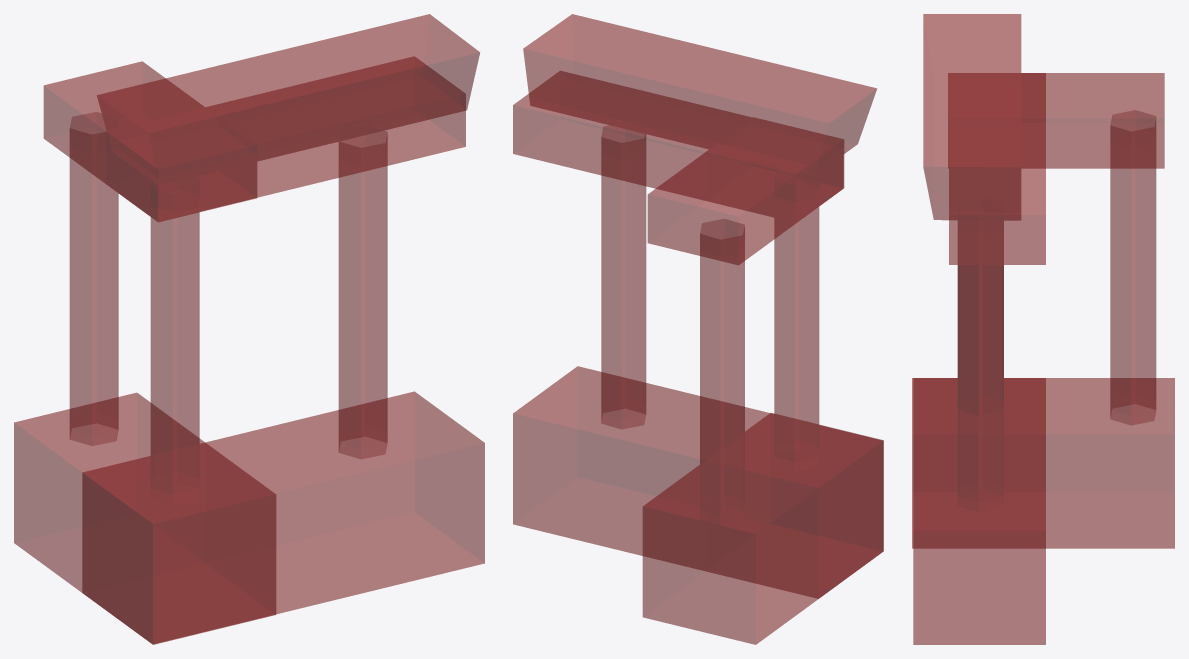
Rendered from SM_Bld_Ruins_02_Collision.fbx.
The picture shows the model from 3 angles, left to right: view 1: azimuth 30°, elevation 25°; view 2: azimuth 150°, elevation 25°; view 3: azimuth 270°, elevation 25°; orthographic projection. The views are drawn at different scales.
Visible parts, largest first — view 1: SM_Bld_Ruins_02_Collision; view 2: SM_Bld_Ruins_02_Collision; view 3: SM_Bld_Ruins_02_Collision.
Part boxes in pixels (x1,y1,x2,y2): SM_Bld_Ruins_02_Collision: [14, 14, 484, 644]; SM_Bld_Ruins_02_Collision: [513, 14, 883, 644]; SM_Bld_Ruins_02_Collision: [912, 14, 1174, 644].
Size of the model in its own units: 804 by 1165 by 580.
